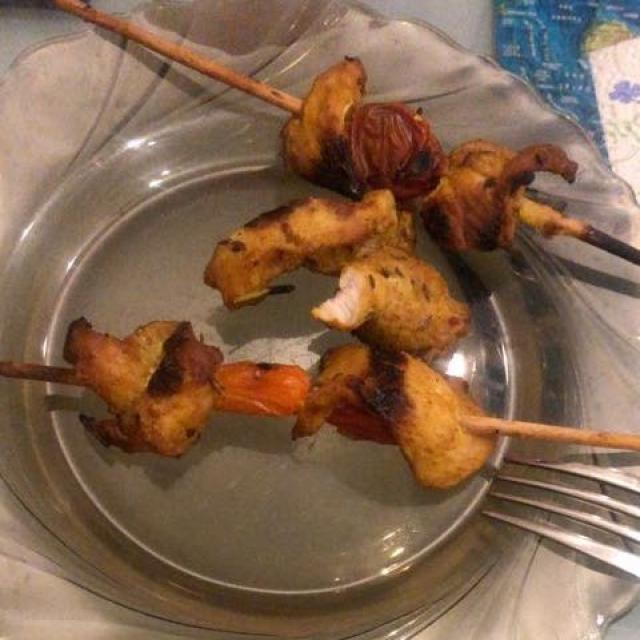chicken: (63, 60, 582, 495)
tomato: (206, 97, 465, 413)
